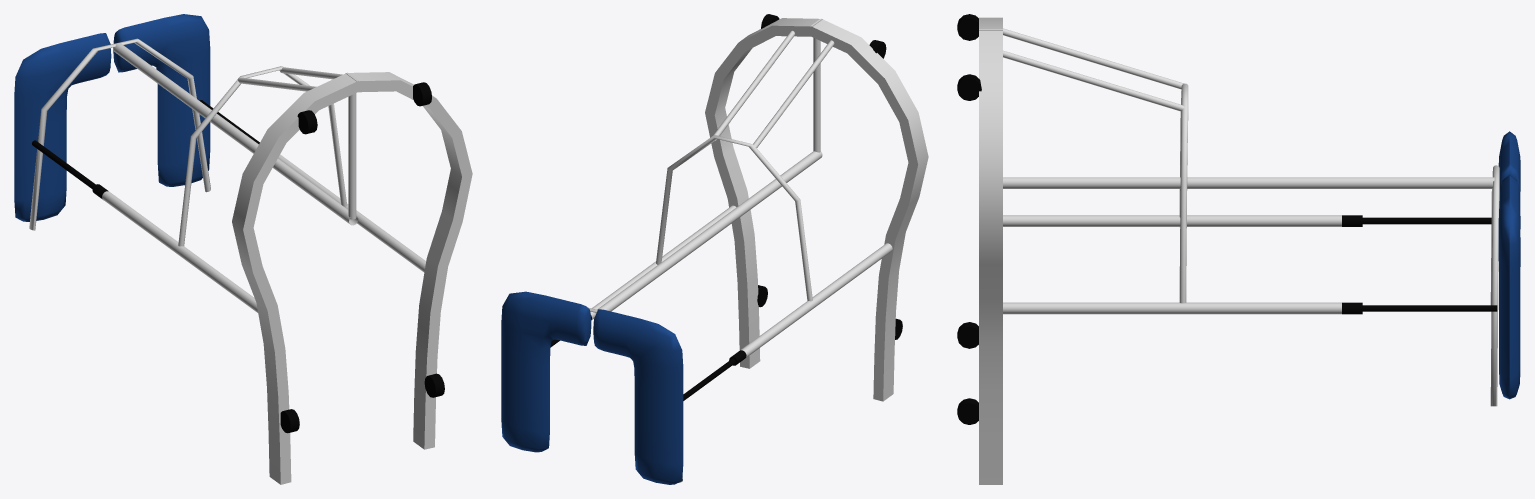
3 renders of one model, left to right at view 1: azimuth 30°, elevation 25°; view 2: azimuth 150°, elevation 25°; view 3: azimuth 270°, elevation 25°, orthographic. The views are drawn at different scales.
Visible parts, largest first — view 1: Cube.001; view 2: Cube.001; view 3: Cube.001.
Boxes of the visible parts, box(x1,y1,x2,y2) form: Cube.001: box(14, 14, 472, 484); Cube.001: box(501, 14, 928, 484); Cube.001: box(957, 14, 1520, 484).
Size of the model in its own units: 71.05 by 114 by 140.
